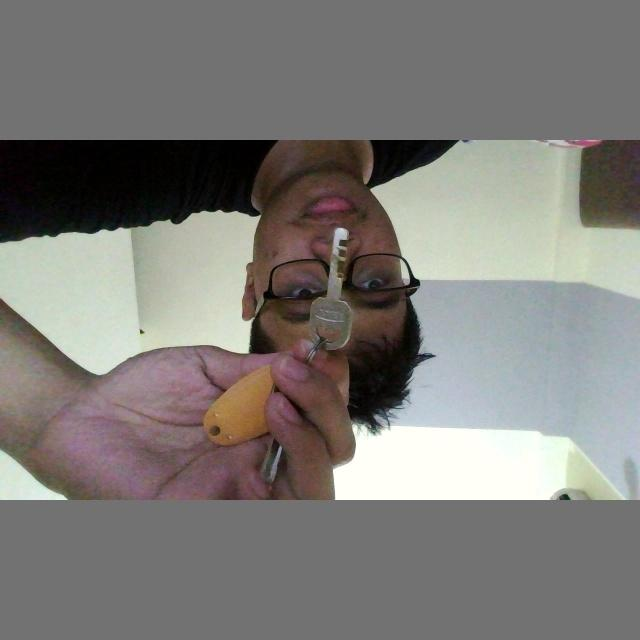Keys: (306, 225, 358, 355)
